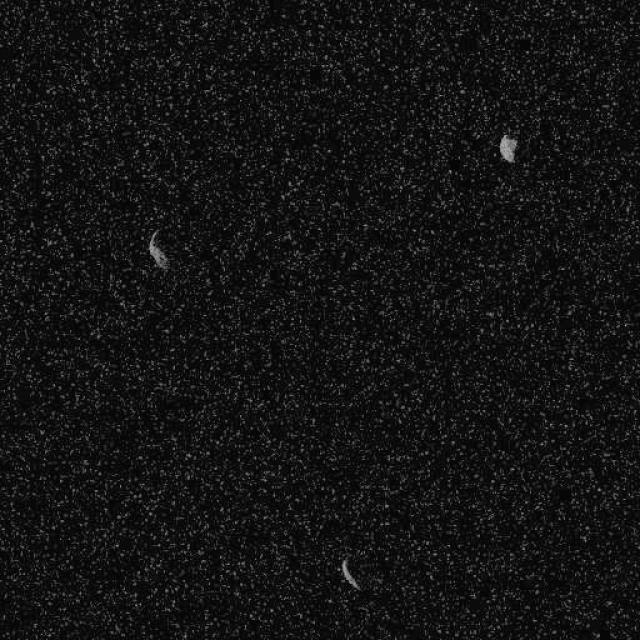D2: (0, 0, 639, 639), (146, 228, 170, 272), (339, 555, 360, 591), (498, 132, 518, 164)
